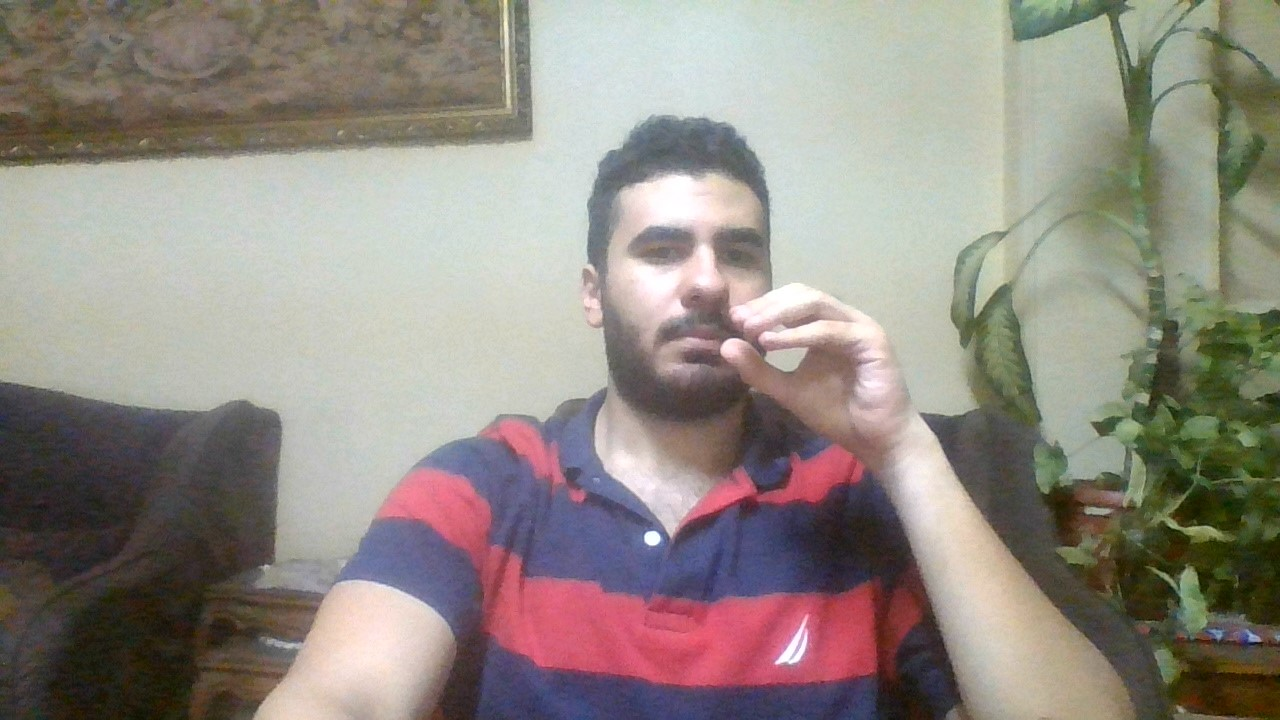drink: (720, 281, 931, 460)
